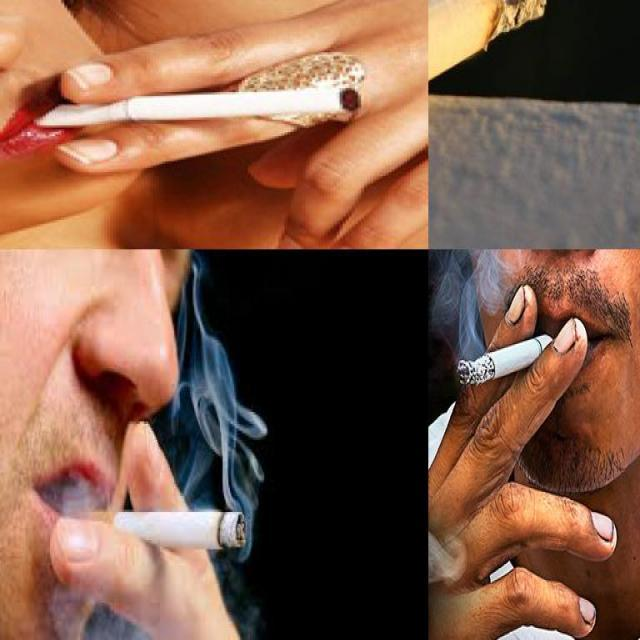smoking: (428, 0, 550, 248), (29, 89, 362, 128), (59, 510, 247, 550), (458, 332, 556, 388)
